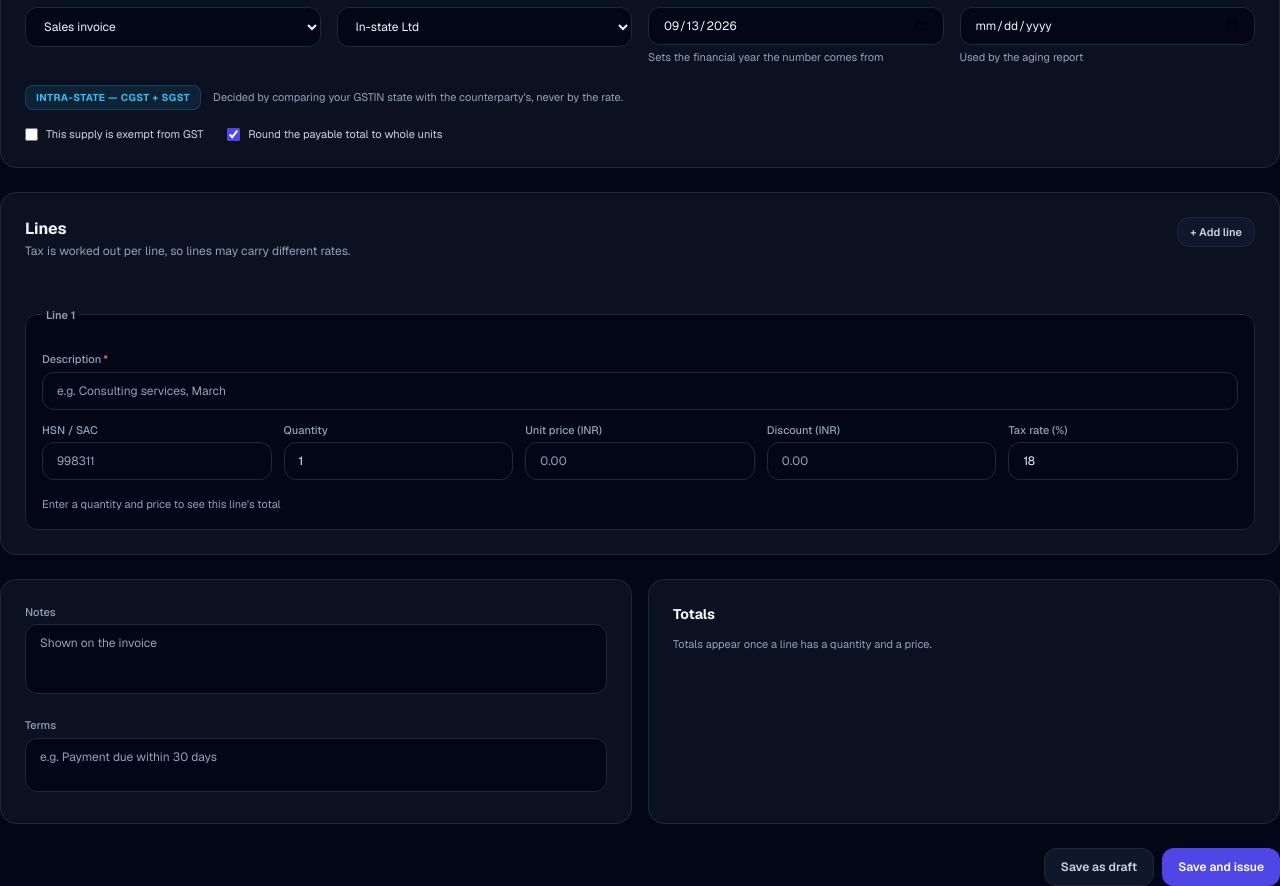
Test: NewInvoiceClient › refuses to submit without a complete line
(page scrolled)
Click the button "Save as draft". click: [1099, 866]
box: [1044,848,1154,885]
(page scrolled)
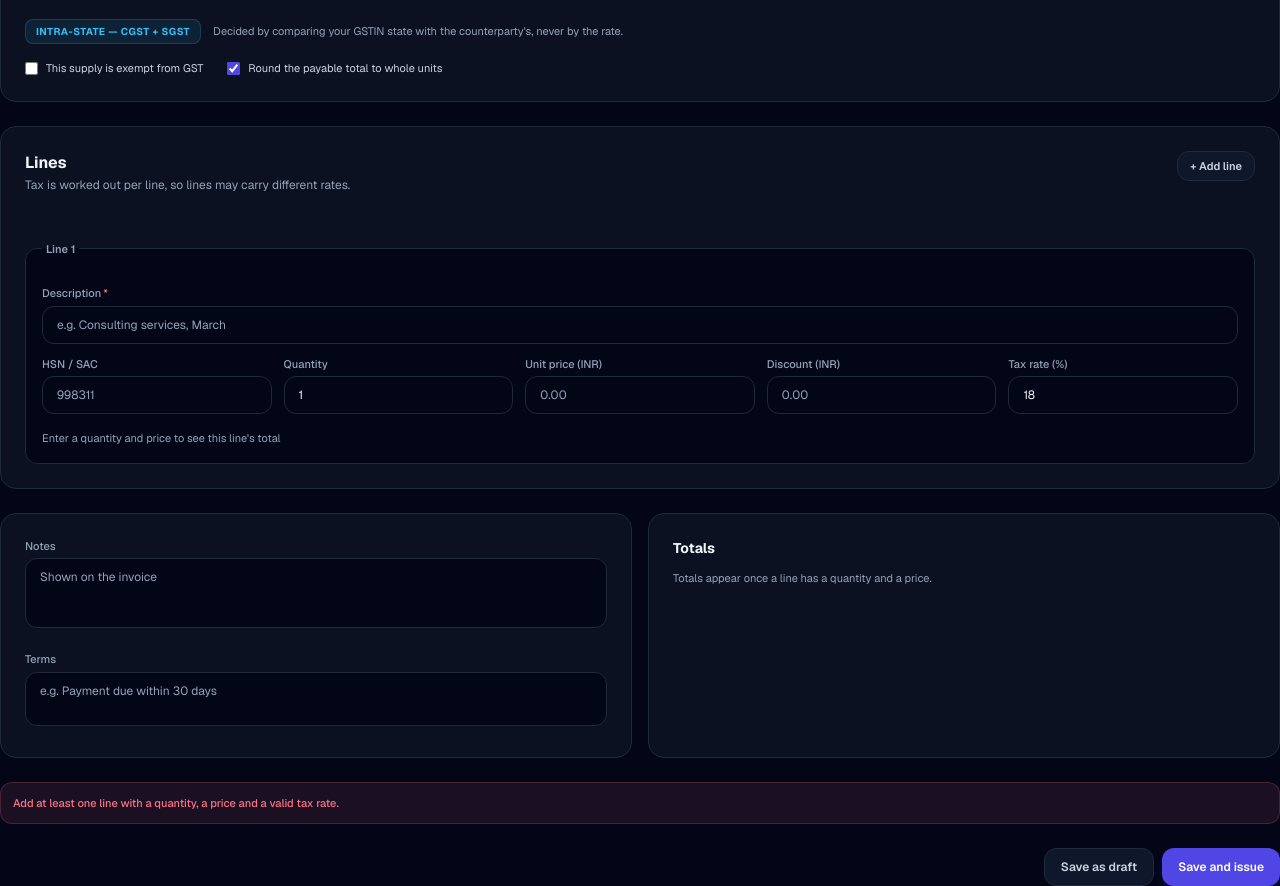
Result: the message shows "at least one line" at [13,796,339,810]
